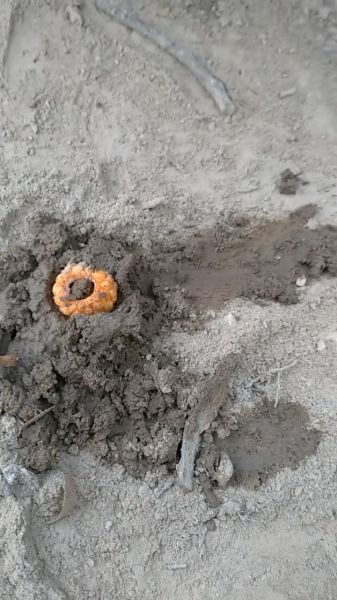eggs: (50, 258, 120, 324)
